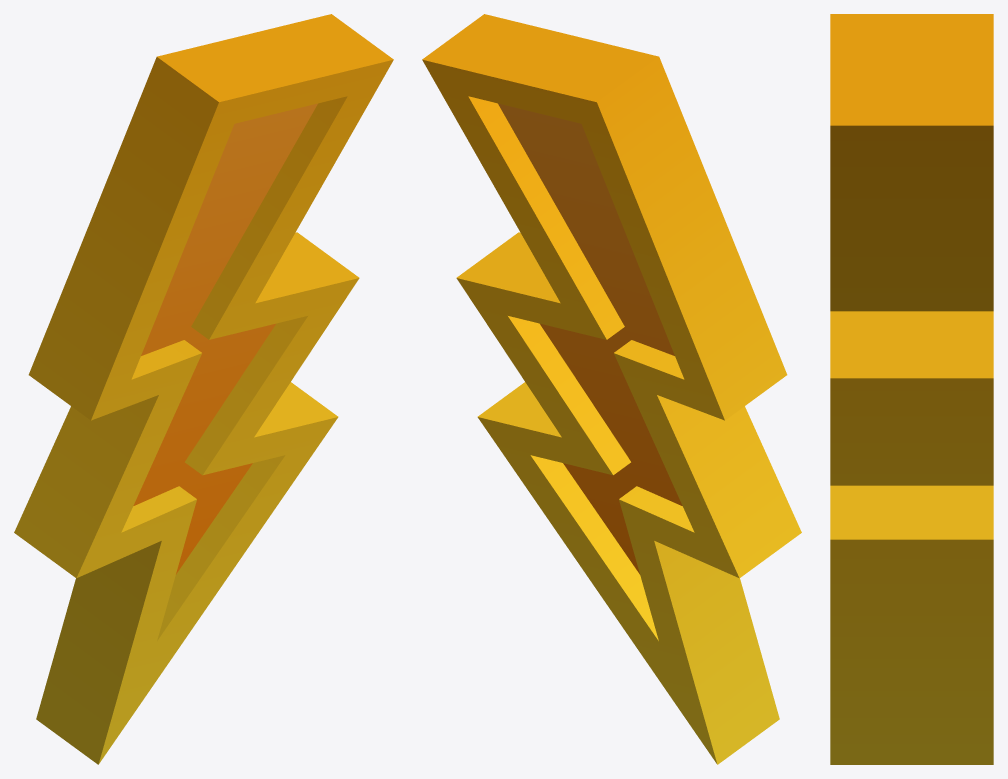
Rendered from Collectable_Lightning_03.fbx.
3 views of the same model, side by side, from view 1: azimuth 30°, elevation 25°; view 2: azimuth 150°, elevation 25°; view 3: azimuth 270°, elevation 25° (orthographic). The views are drawn at different scales.
Parts seen in each view (by area): view 1: Collectable_Lightning_03; view 2: Collectable_Lightning_03; view 3: Collectable_Lightning_03.
Part boxes in pixels (box(x1,y1,x2,y2)): Collectable_Lightning_03: box(14, 14, 393, 764); Collectable_Lightning_03: box(422, 14, 801, 764); Collectable_Lightning_03: box(830, 14, 993, 764).
Bounding box in the file's own units: 40.24 × 76.67 × 13.68.
